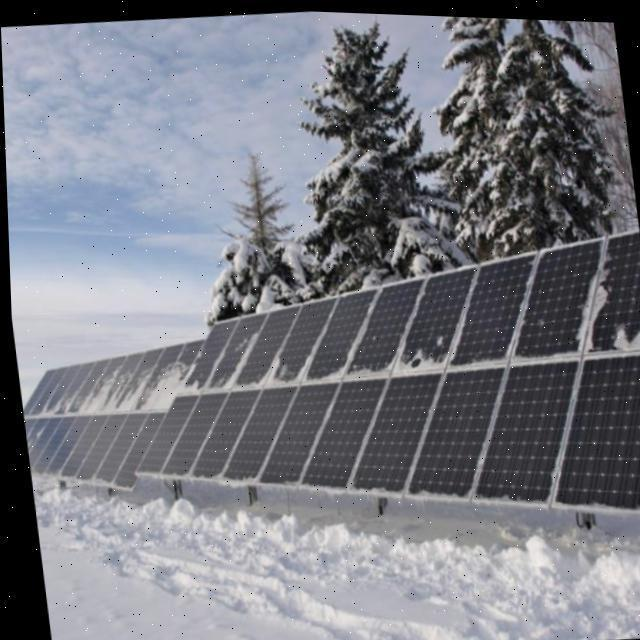Anomaly Solar Panel: (467, 233, 602, 500), (399, 248, 534, 498), (343, 260, 476, 493), (293, 273, 423, 488), (545, 224, 640, 506), (251, 284, 376, 485), (213, 294, 335, 482), (183, 302, 299, 479), (156, 310, 266, 475), (130, 315, 236, 473), (107, 337, 202, 487), (88, 342, 181, 484), (69, 347, 159, 481), (53, 352, 140, 479), (38, 355, 123, 476), (18, 358, 105, 475)
Snow: (31, 311, 640, 427)
